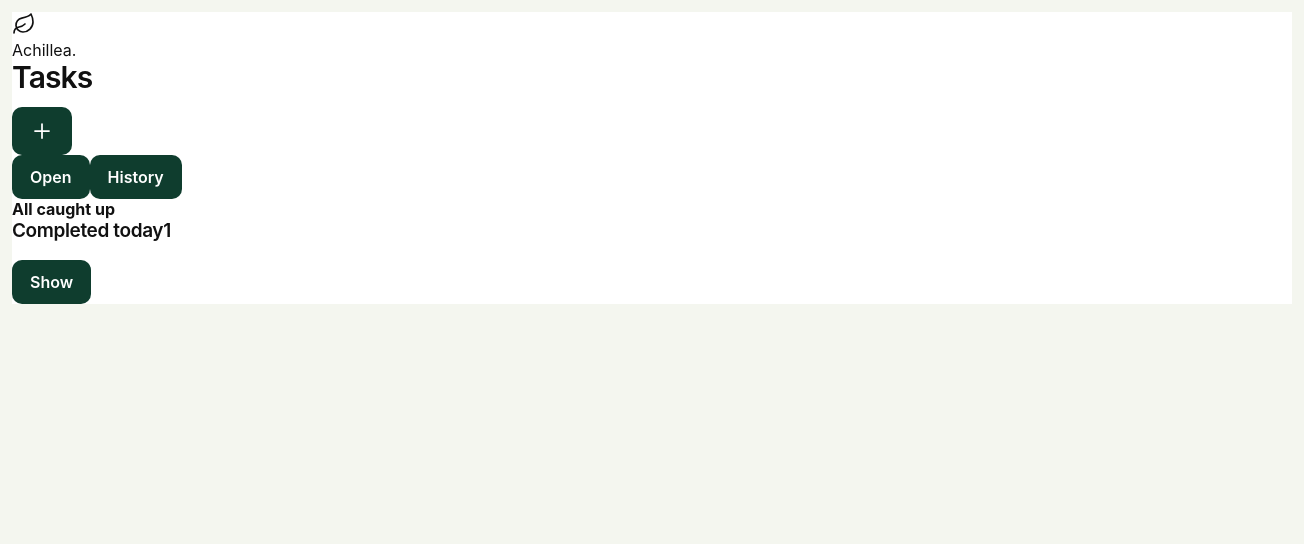
Scenario: keeps earlier-day completions visible without inventing a shift and preserves older history
Check: the heading "Completed today1" is shown, box [12,219,171,242]
Click the button "Show". click: [52, 282]
box: [12,260,91,304]
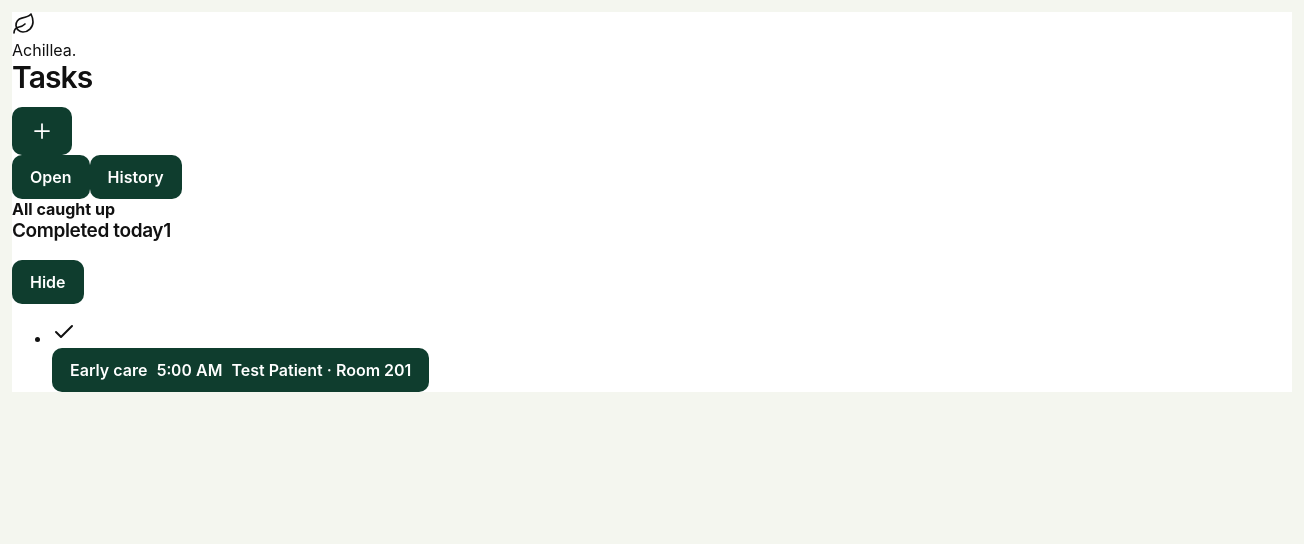
Check: the text "Previous care" is not shown
Check: the text "Early care" is shown, box [70,360,147,380]
Click the tab "History". click: [136, 177]
box: [90,155,182,199]
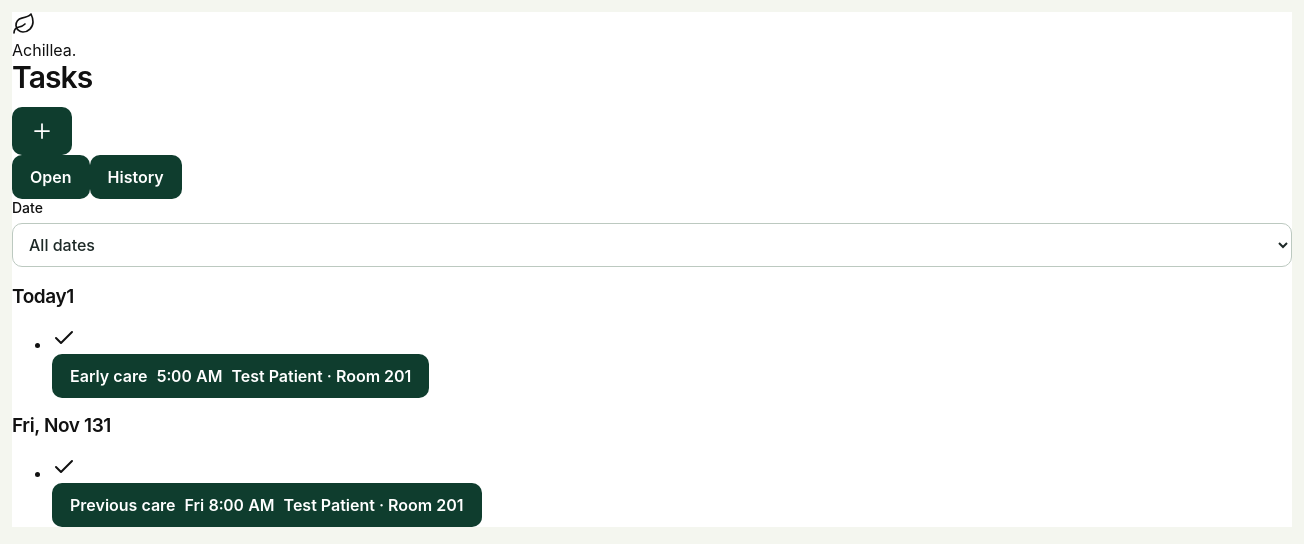
Check: the text "Previous care" is shown, box [70,495,176,515]
Select "Fri, Nov 13" in the dropdown named "Filter history by date". click: [652, 245]
box: [12,223,1292,267]
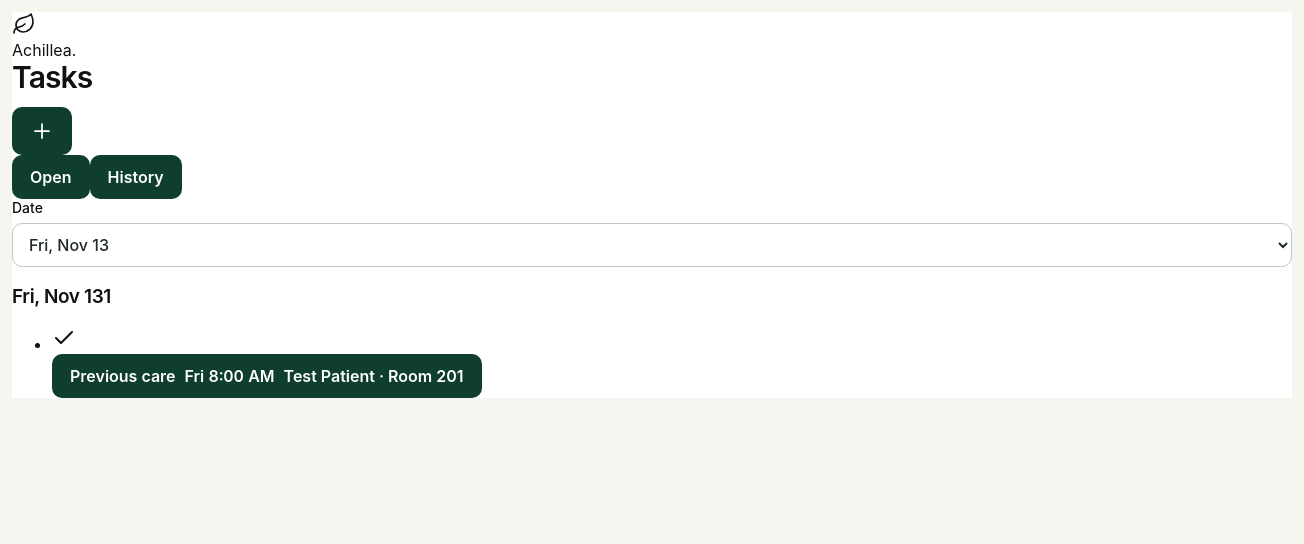
Check: the text "Previous care" is shown, box [70,366,176,386]
Check: the button "Early care" is gone
